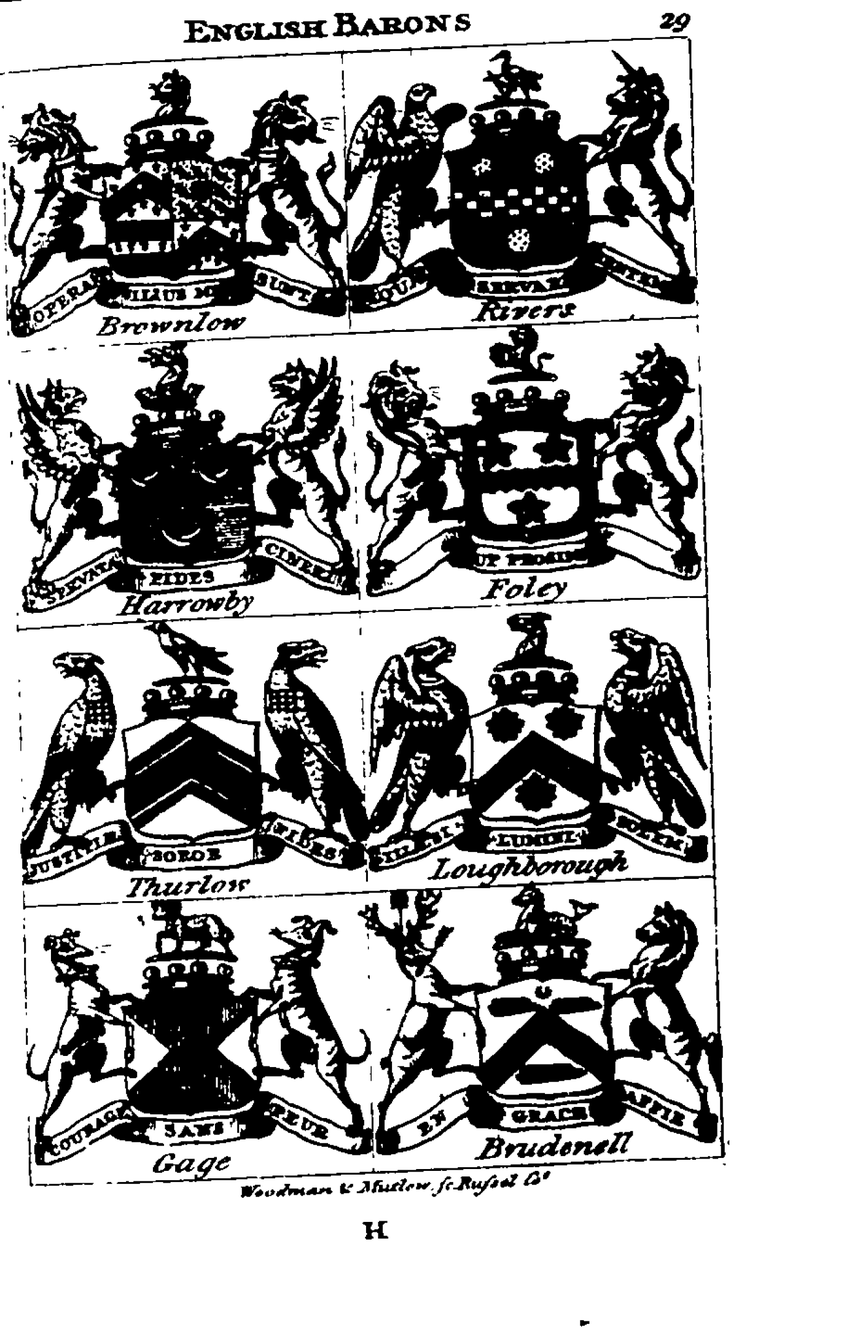coat_of_arms: (361, 601, 711, 880), (27, 900, 384, 1170), (17, 625, 366, 900), (7, 342, 359, 613), (342, 50, 695, 317), (349, 328, 710, 589), (359, 902, 721, 1157), (7, 71, 345, 337)
